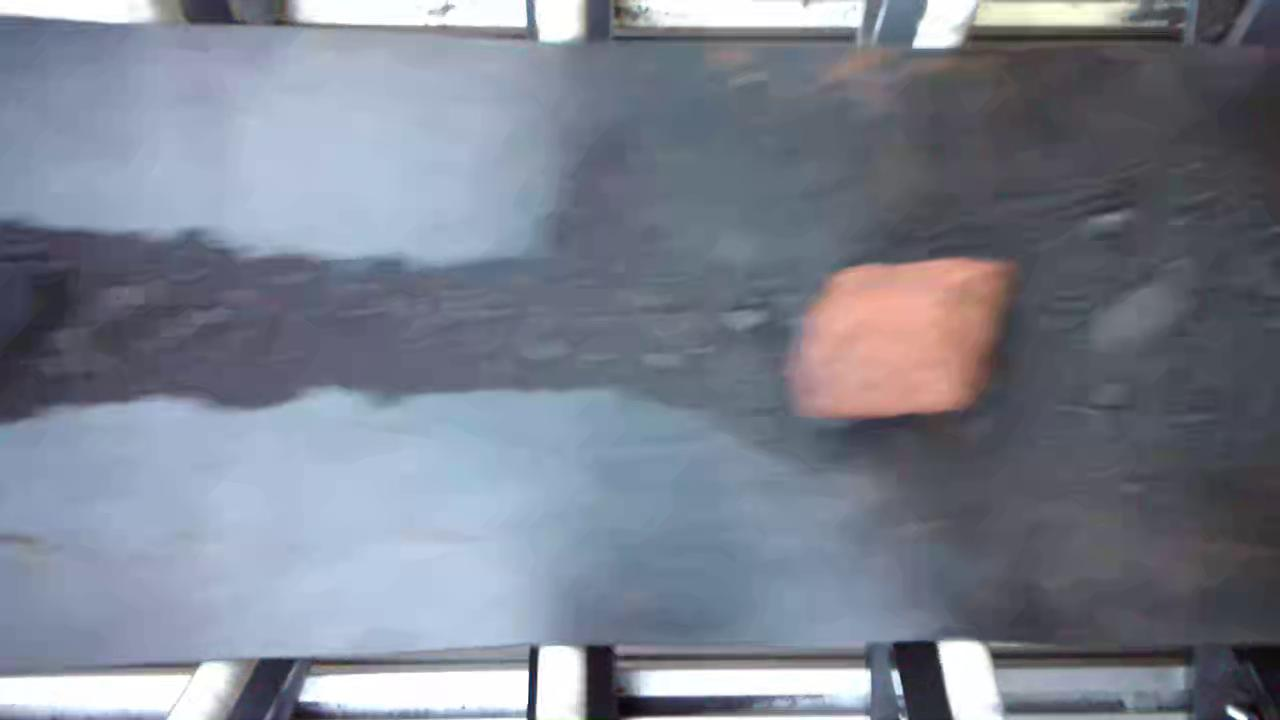conveyor: (8, 51, 1273, 637)
